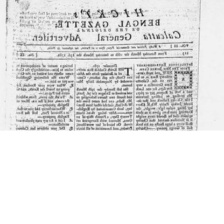news_paper: (0, 0, 202, 133)
